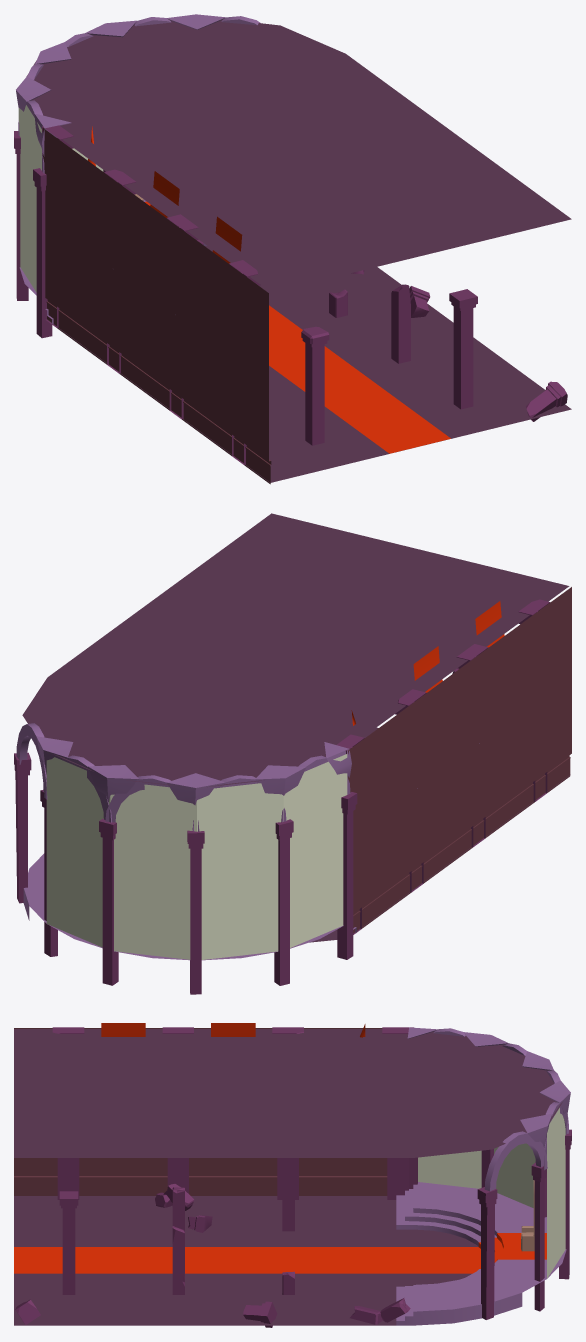
The model's file is env_throne_ruins.fbx.
3 views of the same model, one above another, from view 1: azimuth 30°, elevation 25°; view 2: azimuth 150°, elevation 25°; view 3: azimuth 270°, elevation 25° (orthographic). The views are drawn at different scales.
Visible parts, largest first — view 1: SHADOWCASTER, wall, floor, carpet, windows, windowPillars, windowCorners, pillar_1, pillar_2, wallPillars, pillar_5, banners (+2 smaller); view 2: SHADOWCASTER, windows, wall, windowPillars, windowCorners, windowArches, platform, wallPillars, banners; view 3: SHADOWCASTER, floor, carpet, wall, platform, windows, windowPillars, wallPillars, windowCorners, windowArches, pillar_1, banners (+9 smaller).
Boxes of the visible parts, x1,y1,x2,y2 form: SHADOWCASTER: [26, 20, 571, 292]; wall: [42, 128, 271, 484]; floor: [47, 246, 571, 482]; carpet: [145, 201, 450, 453]; windows: [18, 105, 103, 292]; windowPillars: [14, 131, 105, 338]; windowCorners: [16, 14, 225, 156]; pillar_1: [449, 289, 477, 409]; pillar_2: [301, 326, 329, 445]; wallPillars: [42, 125, 260, 464]; pillar_5: [391, 284, 410, 363]; banners: [88, 126, 242, 263]; SHADOWCASTER: [22, 513, 569, 787]; windows: [46, 754, 347, 959]; wall: [348, 587, 571, 933]; windowPillars: [14, 752, 357, 994]; windowCorners: [36, 736, 351, 805]; windowArches: [16, 723, 350, 831]; platform: [23, 853, 356, 960]; wallPillars: [336, 599, 550, 934]; banners: [351, 601, 504, 725]; SHADOWCASTER: [14, 1029, 562, 1157]; floor: [14, 1196, 478, 1325]; carpet: [14, 1233, 546, 1273]; wall: [14, 1028, 387, 1195]; platform: [396, 1182, 566, 1325]; windows: [418, 1108, 567, 1278]; windowPillars: [409, 1129, 571, 1319]; wallPillars: [52, 1027, 413, 1199]; windowCorners: [407, 1027, 570, 1147]; windowArches: [433, 1028, 568, 1191]; pillar_1: [59, 1191, 78, 1294]; banners: [101, 1023, 365, 1037].
Bounding box in the file's own units: 2297 × 1589 × 4062.
